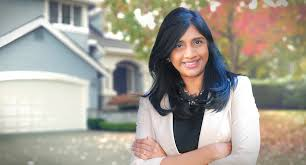indian_female: (124, 1, 247, 84)
